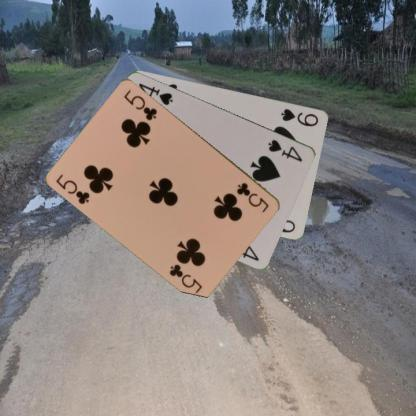4s: (266, 136, 304, 163)
5c: (54, 172, 91, 206), (234, 180, 270, 214)
9s: (279, 106, 320, 128)
